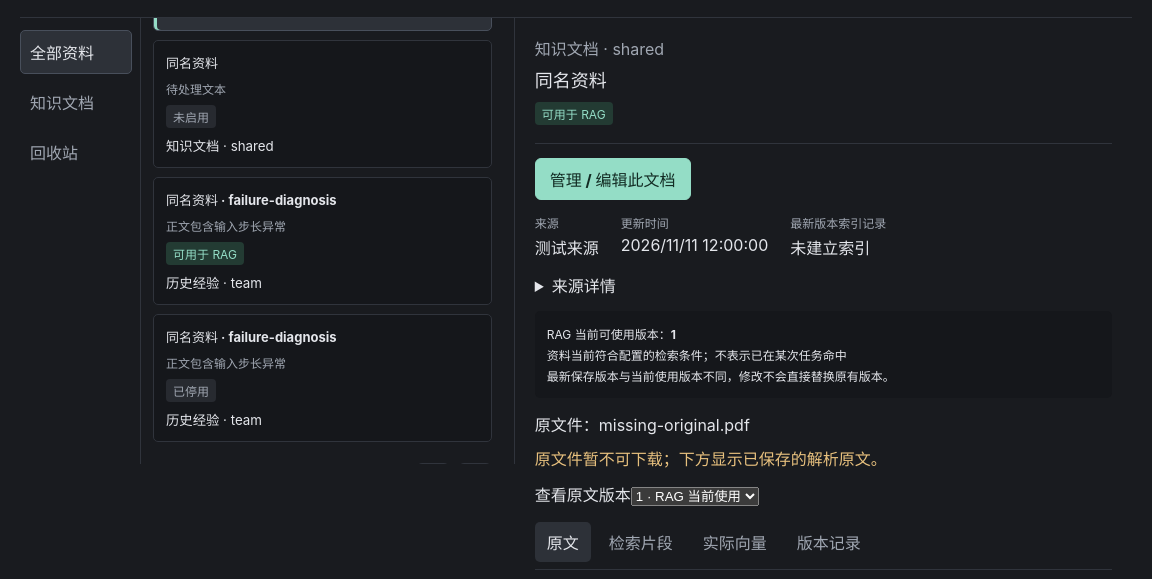
it: unified original-source catalog › renders the actual SQL adapter DTO, including historical memory and old document text
(page scrolled)
Click the button "同名资料 · failure-diagnosis 正文包含输入步长异常 可用于 RAG 历史经验 · team": click(251, 200) [153,176,492,304]
(page scrolled)
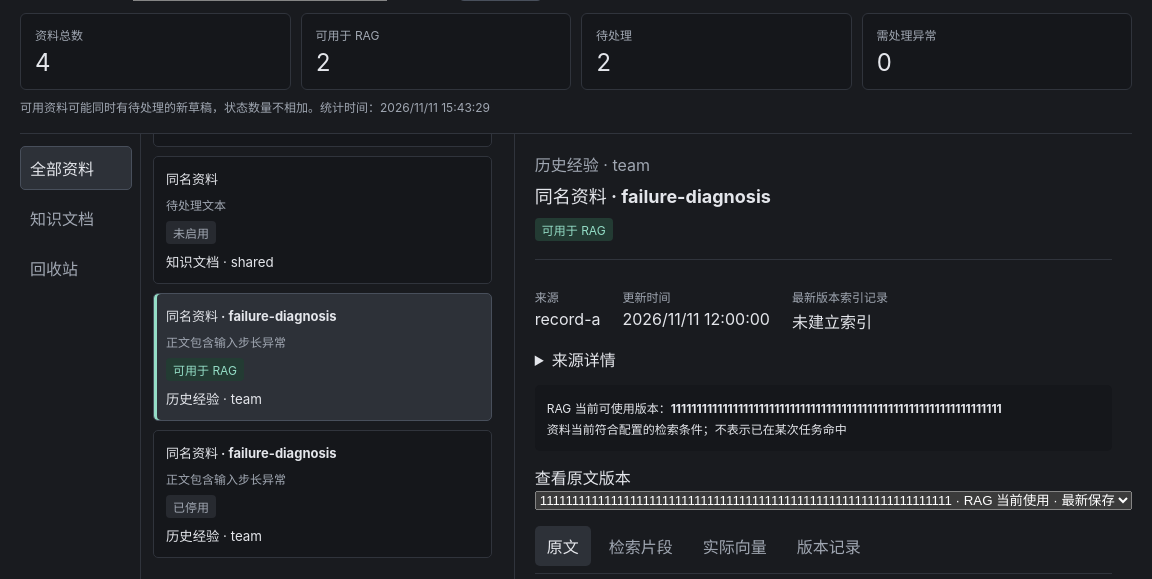
Select "2222222222222222222222222222222222222222222222222222222222222222" in the dropdown labelled "查看原文版本": (833, 500) [535,490,1132,510]
(page scrolled)
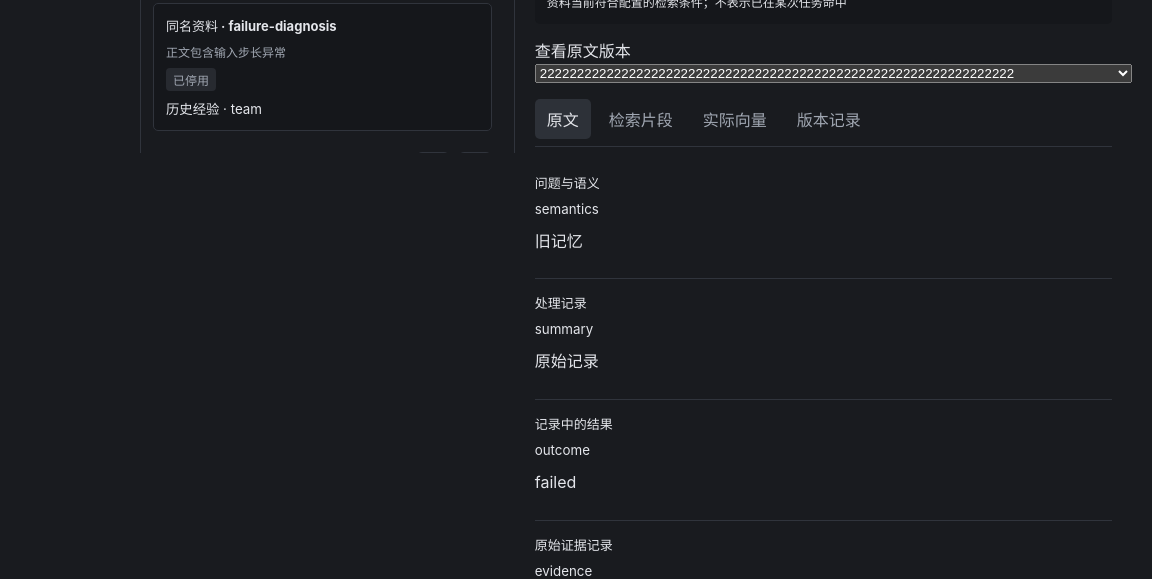
Result: the text "旧记忆" is shown at [535,230,583,250]
